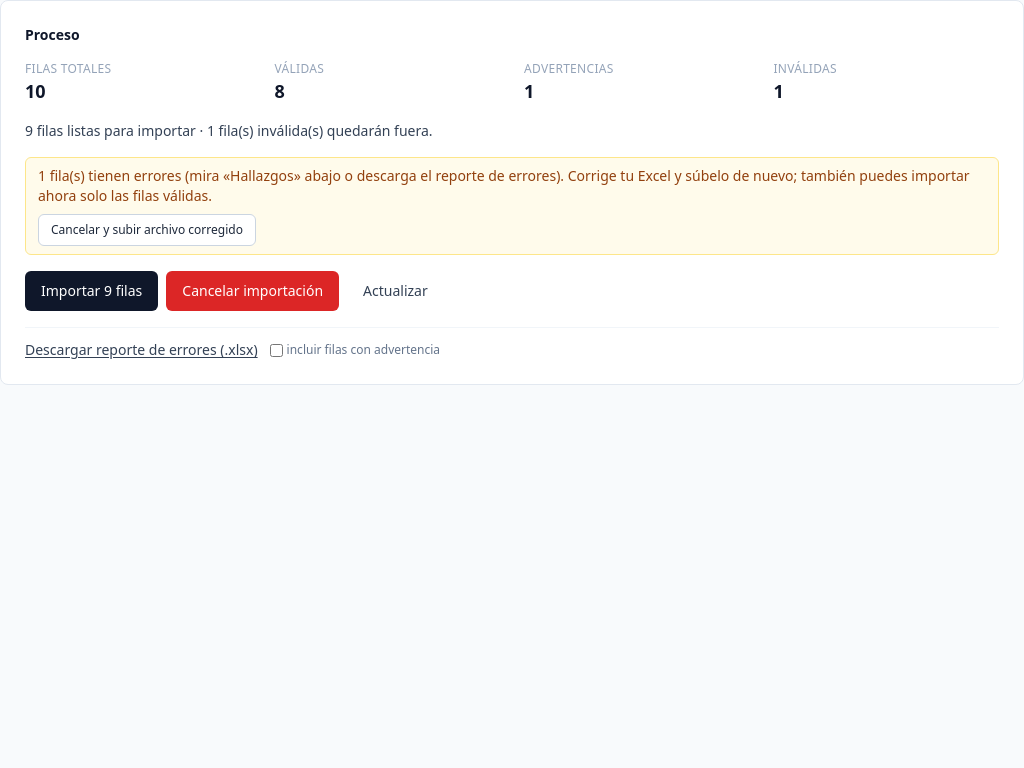
ImportPipeline › shows a safe 403 message in place when a step is rejected
Click the button "Importar 9 filas" at (92, 291), box [25,271,158,311]
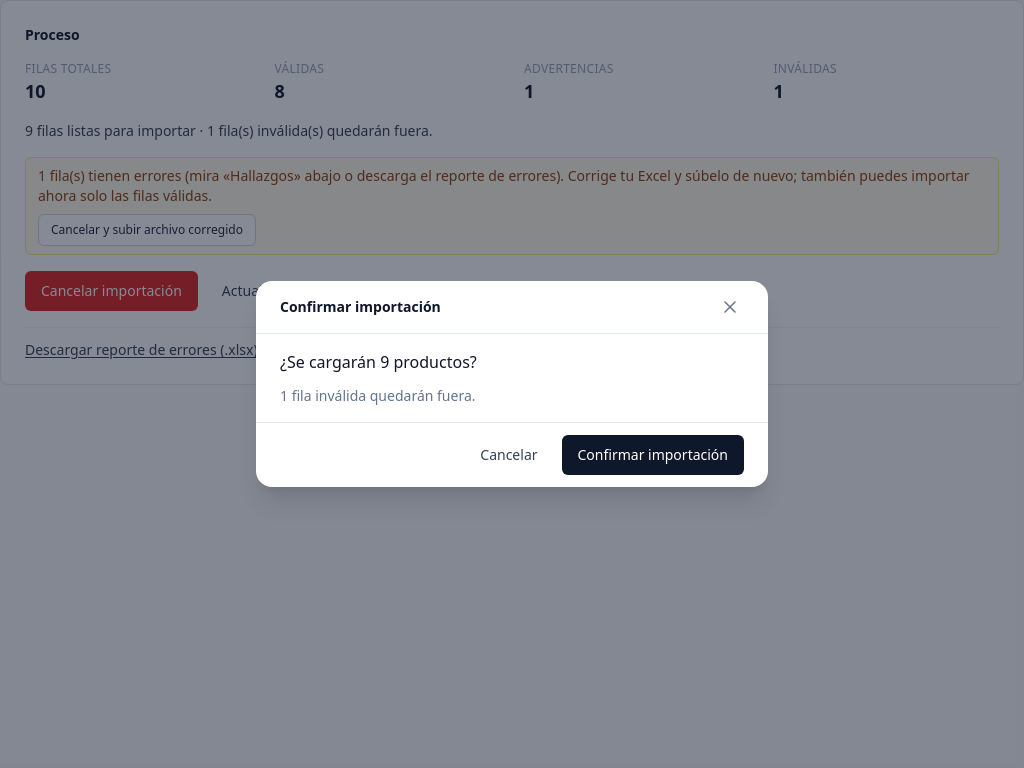
Click the button "Confirmar importación" at (653, 455), box [562,435,744,475]
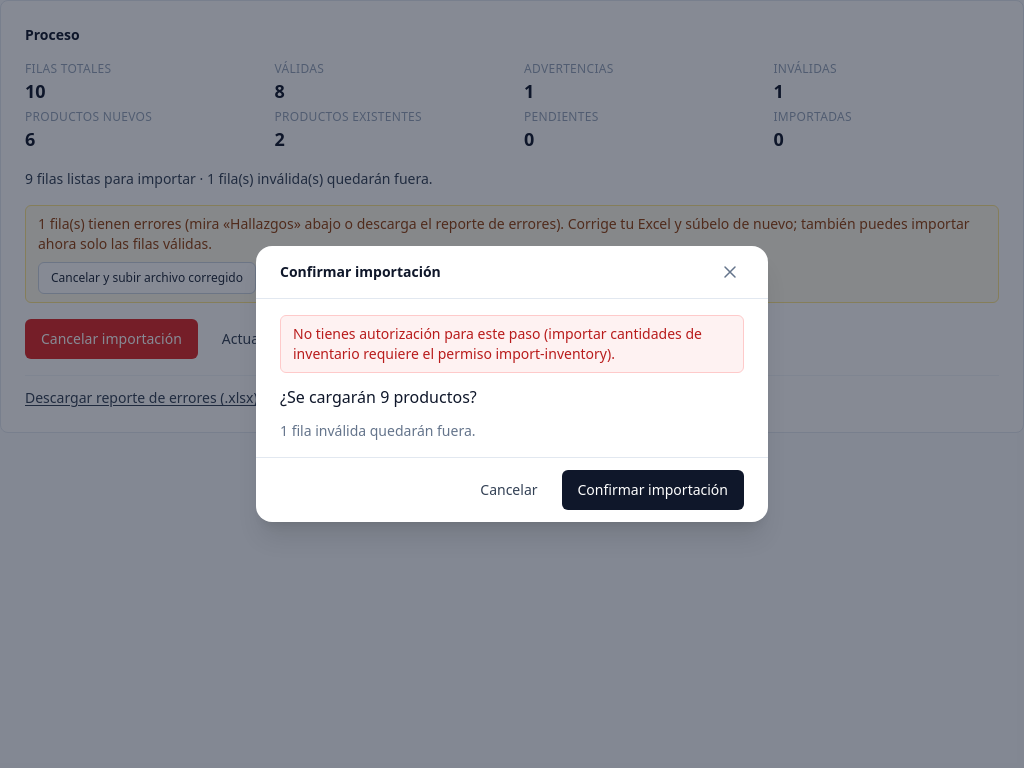
Now the text "No tienes autorización para este paso" is shown, box [293,324,702,363]
